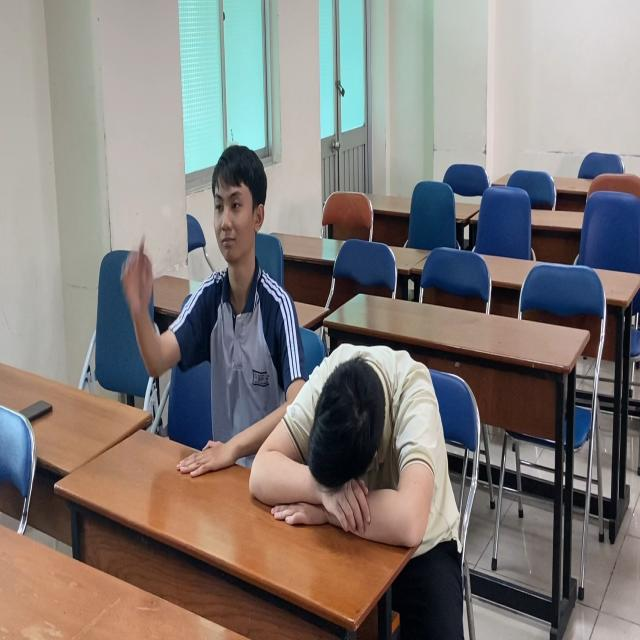raise_hand: (118, 143, 276, 472)
sleep: (250, 339, 477, 557)
